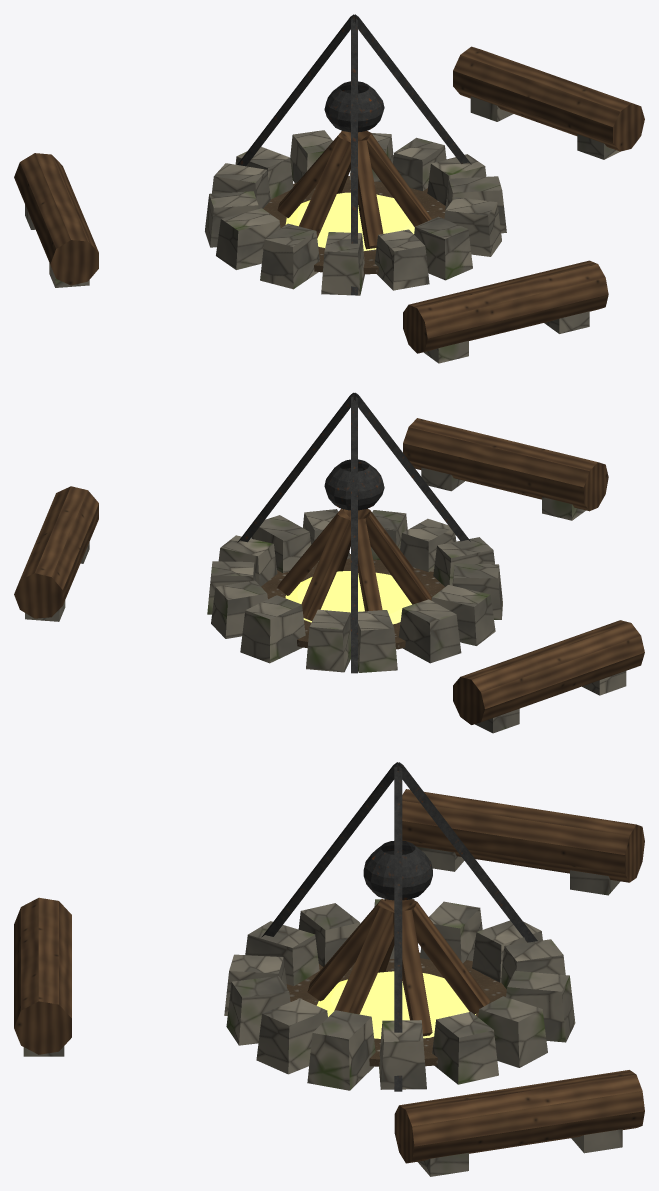
Rendered from Hearth.fbx.
3 renders of one model, top to bottom at view 1: azimuth 30°, elevation 25°; view 2: azimuth 150°, elevation 25°; view 3: azimuth 270°, elevation 25°, orthographic. The views are drawn at different scales.
Parts seen in each view (by area): view 1: Hearth; view 2: Hearth; view 3: Hearth.
Boxes of the visible parts, x1,y1,x2,y2 form: Hearth: (14,14,644,363); Hearth: (14,392,644,733); Hearth: (14,762,644,1176).
Bounding box in the file's own units: 5.92 × 2.05 × 4.63.
